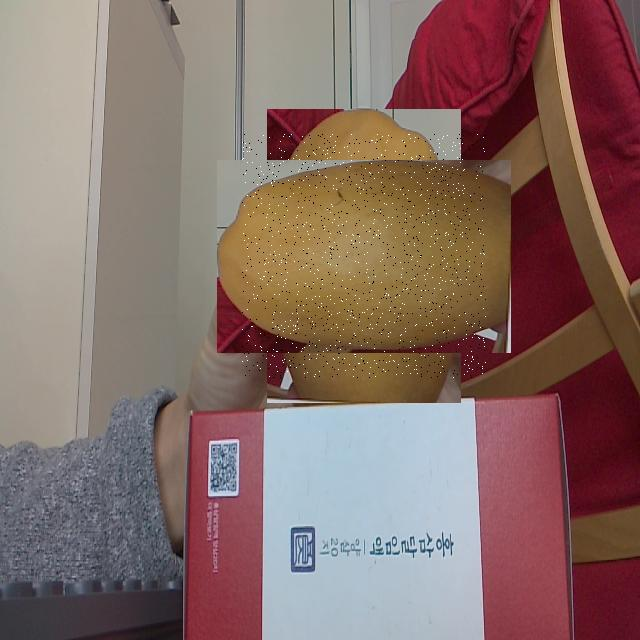pear: (242, 134, 486, 378)
